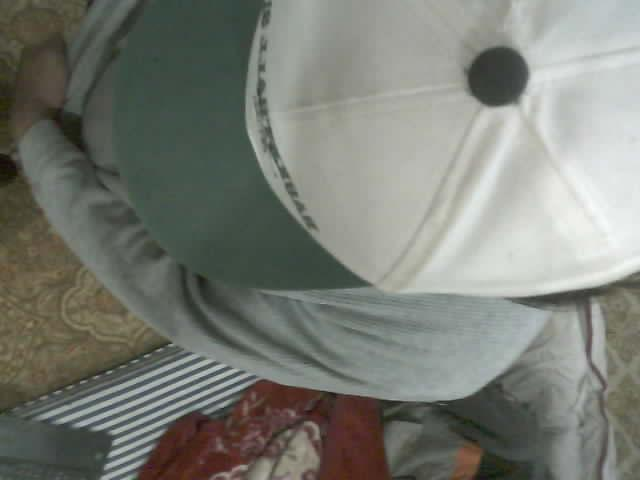cap: (81, 0, 639, 301)
